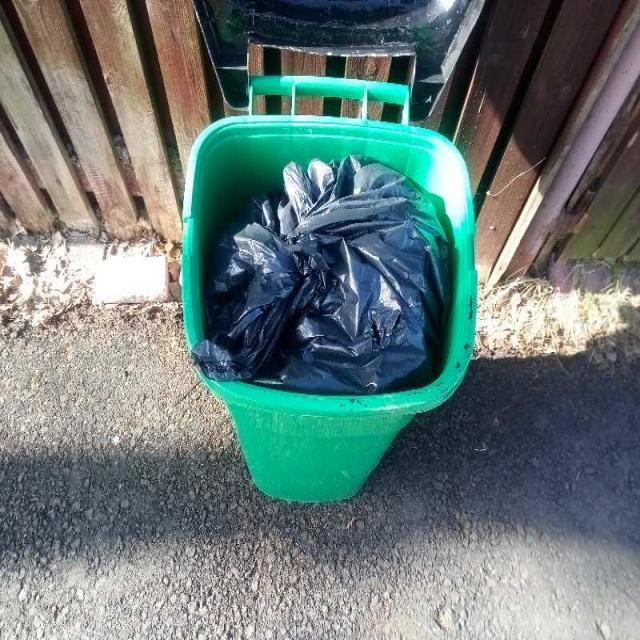Dumpster: (183, 0, 493, 500)
